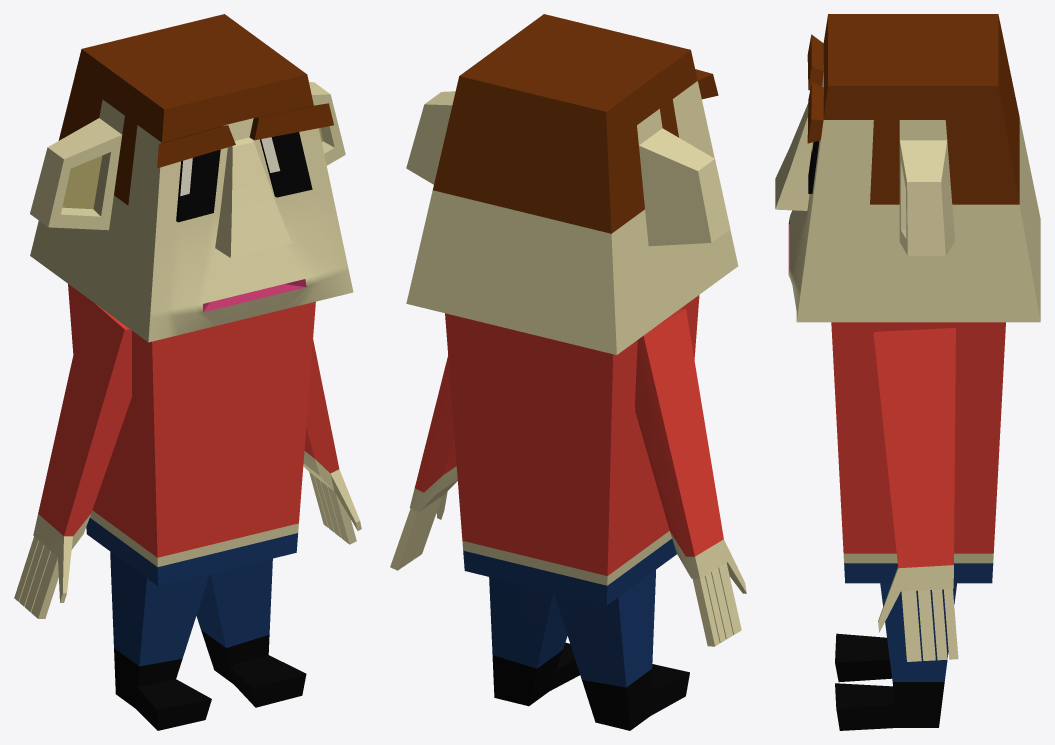
The model's file is notSimpsonsChuck.fbx.
3 renders of one model, left to right at view 1: azimuth 30°, elevation 25°; view 2: azimuth 150°, elevation 25°; view 3: azimuth 270°, elevation 25°, orthographic. The views are drawn at different scales.
Visible parts, largest first — view 1: head, torso, arms, legs; view 2: head, torso, arms, legs; view 3: head, torso, arms, legs.
Part boxes in pixels (x1,y1,x2,y2): head: [30, 14, 353, 342]; torso: [68, 284, 315, 586]; arms: [14, 297, 361, 618]; legs: [110, 552, 306, 730]; head: [406, 14, 738, 354]; torso: [445, 295, 699, 605]; arms: [390, 309, 746, 646]; legs: [489, 570, 689, 730]; head: [775, 14, 1040, 322]; torso: [831, 322, 1005, 583]; arms: [873, 328, 958, 661]; legs: [835, 583, 956, 730].
Size of the model in its own units: 47.43 by 88.95 by 33.19.
